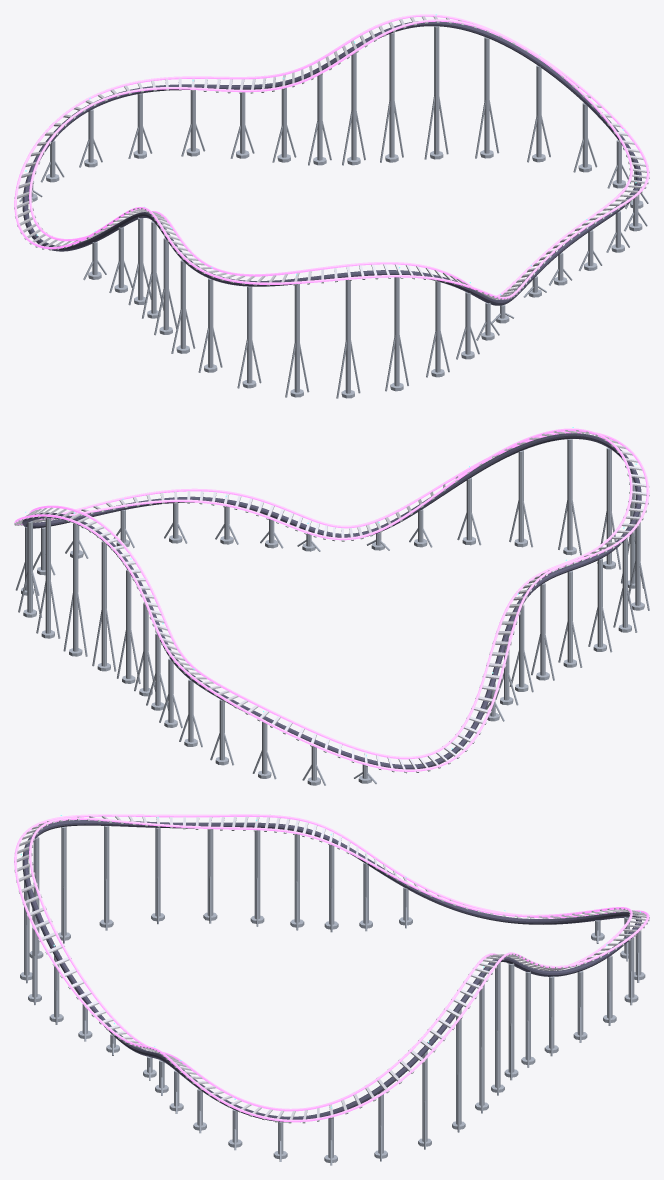
Rendered from coaster_track.glb.
The picture shows the model from 3 angles, top to bottom: view 1: azimuth 30°, elevation 25°; view 2: azimuth 150°, elevation 25°; view 3: azimuth 270°, elevation 25°; orthographic projection.
Visible parts, largest first — view 1: supports, spine, ties, rail_l, rail_r; view 2: supports, spine, ties, rail_r, rail_l; view 3: supports, spine, ties, rail_l, rail_r.
Part boxes in pixels (box(x1,y1,x2,y2)): supports: box(19, 26, 648, 398); spine: box(22, 21, 641, 305); ties: box(14, 16, 649, 299); rail_l: box(14, 14, 649, 299); rail_r: box(29, 19, 632, 296); supports: box(15, 439, 649, 785); spine: box(22, 433, 641, 769); ties: box(14, 430, 649, 773); rail_r: box(29, 428, 632, 759); rail_l: box(14, 431, 649, 771); supports: box(20, 826, 645, 1165); spine: box(22, 820, 641, 1122); ties: box(14, 814, 649, 1123); rail_l: box(14, 814, 649, 1122); rail_r: box(29, 817, 632, 1111).
Bounding box in the file's own units: 60.83 × 16.14 × 64.43.
